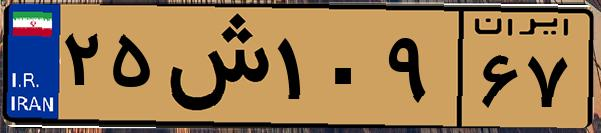0: (330, 28, 385, 110)
1: (270, 28, 330, 110)
2: (57, 26, 110, 100)
5: (110, 28, 158, 98)
6: (475, 38, 525, 113)
7: (525, 38, 570, 115)
9: (385, 28, 445, 110)
ش: (158, 12, 270, 120)
